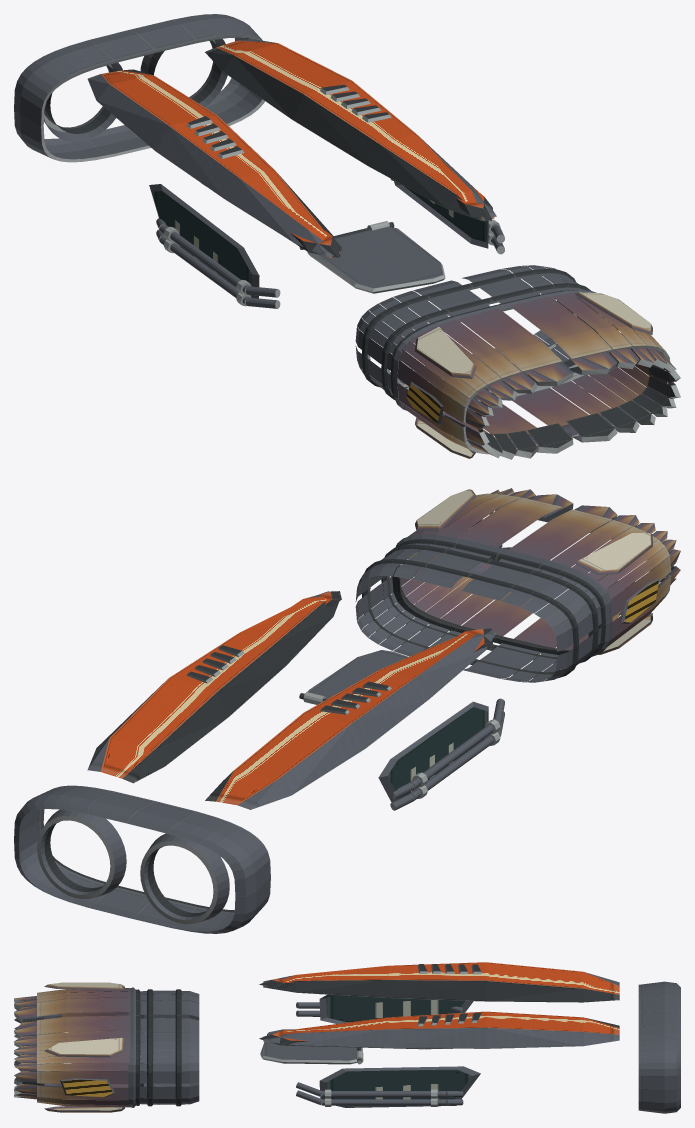
File: nacelle.glb
3 views of the same model, one above another, from view 1: azimuth 30°, elevation 25°; view 2: azimuth 150°, elevation 25°; view 3: azimuth 270°, elevation 25° (orthographic). The views are drawn at different scales.
Visible parts, largest first — view 1: NacelleHardware, AftBrakeLeaf; view 2: NacelleHardware, AftBrakeLeaf; view 3: NacelleHardware, AftBrakeLeaf.
Part boxes in pixels (bbox=[...]): NacelleHardware: bbox=[14, 14, 680, 459]; AftBrakeLeaf: bbox=[299, 221, 445, 293]; NacelleHardware: bbox=[14, 488, 680, 933]; AftBrakeLeaf: bbox=[299, 650, 408, 704]; NacelleHardware: bbox=[14, 962, 680, 1113]; AftBrakeLeaf: bbox=[260, 1029, 363, 1064].
Bounding box in the file's own units: 2.77 × 1.3 × 8.42.
1 material, 1 textured.
